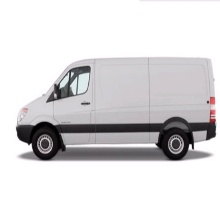no damage: (14, 55, 216, 161)
